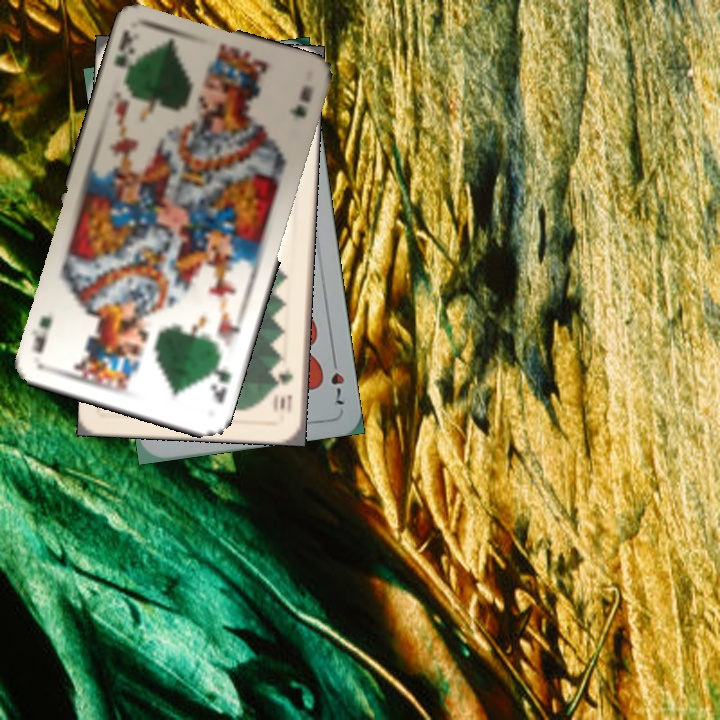G10: (272, 364, 295, 416)
GK: (109, 25, 138, 83), (206, 354, 234, 406)
H7: (326, 351, 347, 408)
